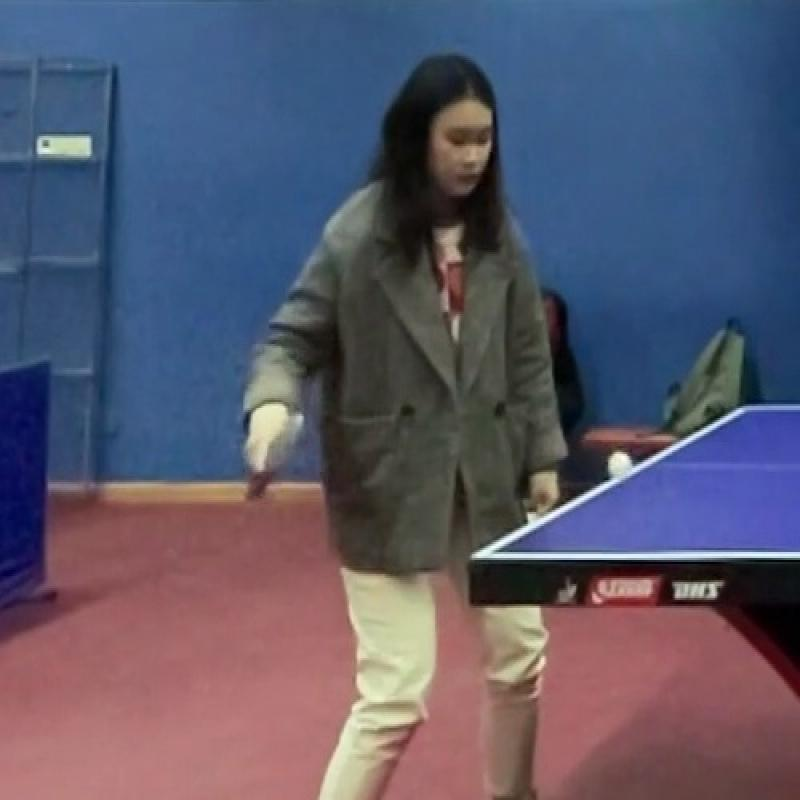bats: (218, 400, 317, 507)
